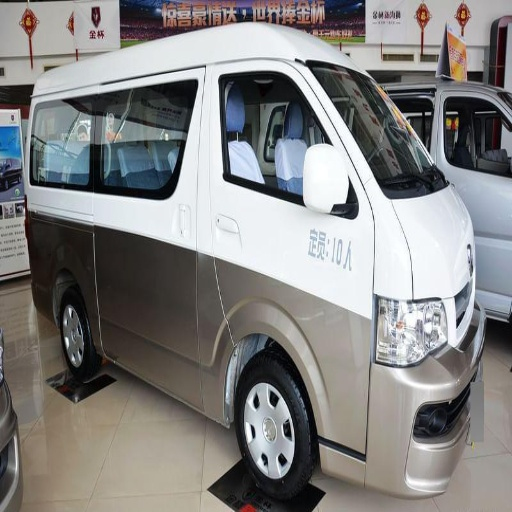front_bumper: (321, 340, 480, 499)
front_glass: (316, 65, 435, 198)
front_right_door: (222, 72, 373, 278), (139, 267, 202, 398)
front_right_light: (374, 296, 449, 365)
trunk: (43, 188, 182, 304), (287, 288, 342, 414)
